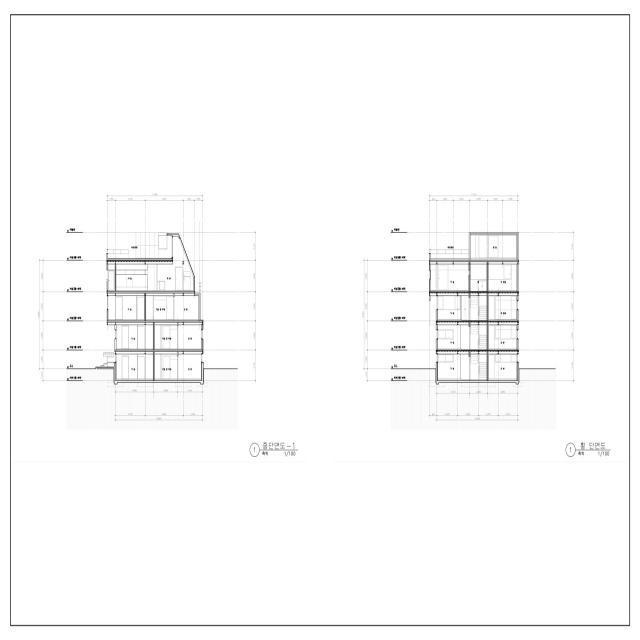space_bedroom: (470, 234, 518, 260), (489, 351, 518, 380), (489, 262, 518, 291), (489, 322, 518, 350), (489, 293, 518, 321), (175, 293, 199, 321), (178, 352, 202, 380), (178, 322, 202, 350)
space_kitchen: (146, 293, 174, 321), (155, 352, 178, 381), (155, 322, 178, 350)
space_living_room: (430, 262, 469, 292), (116, 322, 153, 350), (116, 352, 153, 380), (108, 293, 144, 321), (437, 322, 469, 350), (437, 293, 469, 321), (437, 352, 469, 380)
space_staircase: (470, 262, 487, 292), (469, 322, 487, 350), (469, 293, 487, 321), (469, 352, 487, 380)
